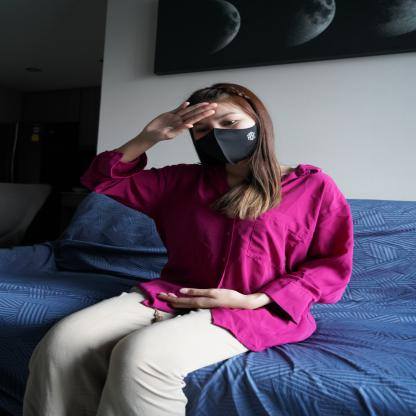Sick: (123, 100, 223, 142)
